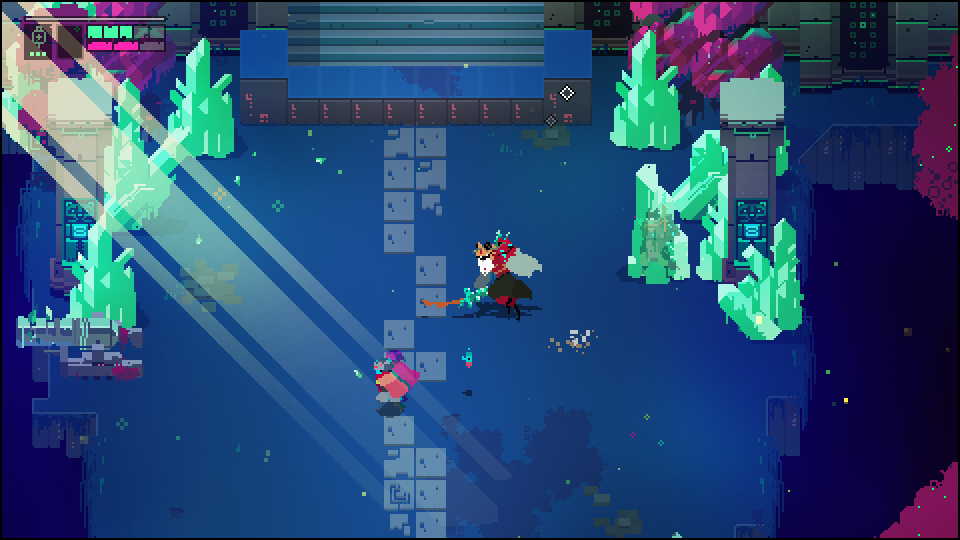hanged_man: (457, 227, 540, 317)
player: (371, 358, 408, 409)
